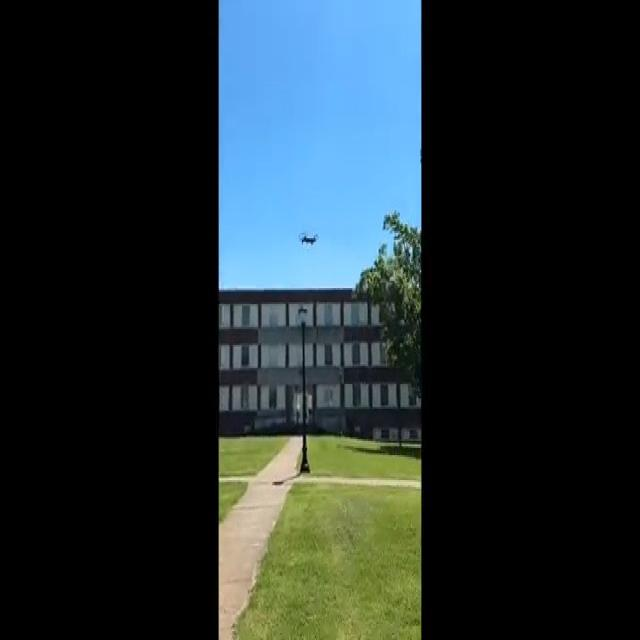drone: (295, 221, 322, 255)
